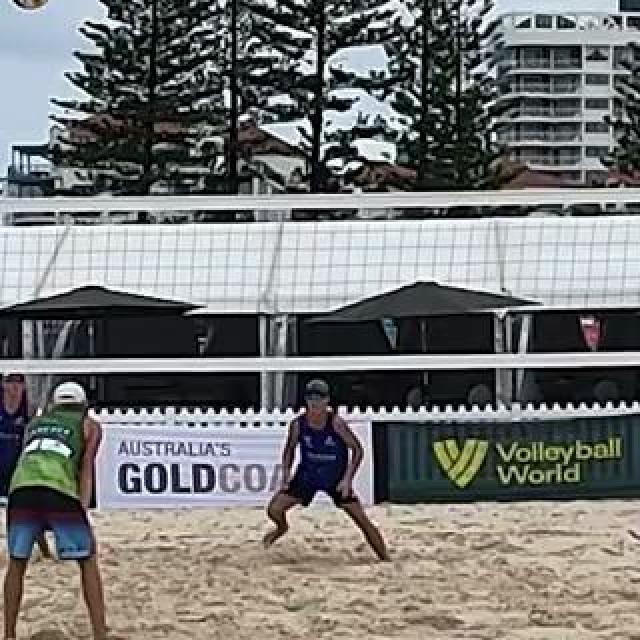volleyball: (11, 0, 53, 10)
